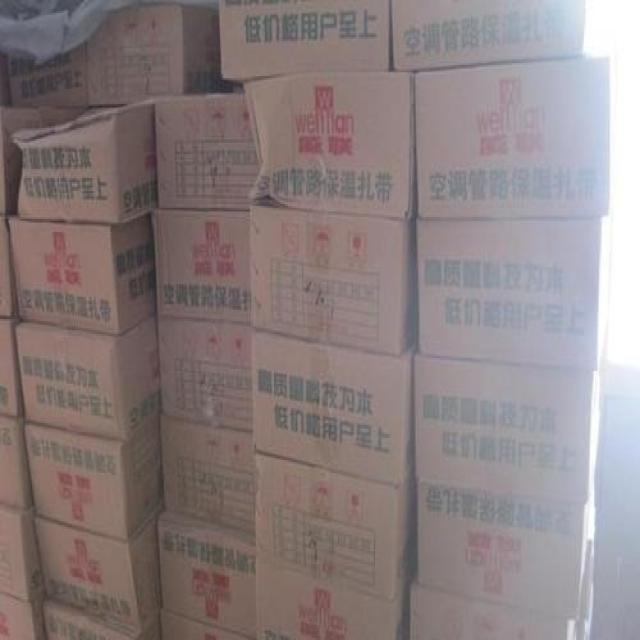box: (414, 57, 610, 219), (415, 217, 610, 372), (413, 355, 600, 502), (251, 328, 414, 489), (252, 450, 417, 605), (417, 480, 594, 622), (244, 71, 413, 219), (248, 206, 413, 356), (14, 310, 162, 441), (8, 211, 157, 336), (33, 501, 165, 638), (25, 413, 163, 541), (83, 0, 233, 105), (255, 550, 410, 638), (218, 1, 389, 79), (391, 1, 586, 69), (156, 508, 256, 638), (153, 91, 260, 210), (152, 205, 249, 322), (162, 414, 257, 533), (157, 317, 252, 429), (412, 578, 575, 638), (0, 499, 44, 603), (41, 600, 161, 638), (0, 412, 33, 509), (0, 590, 47, 638)
